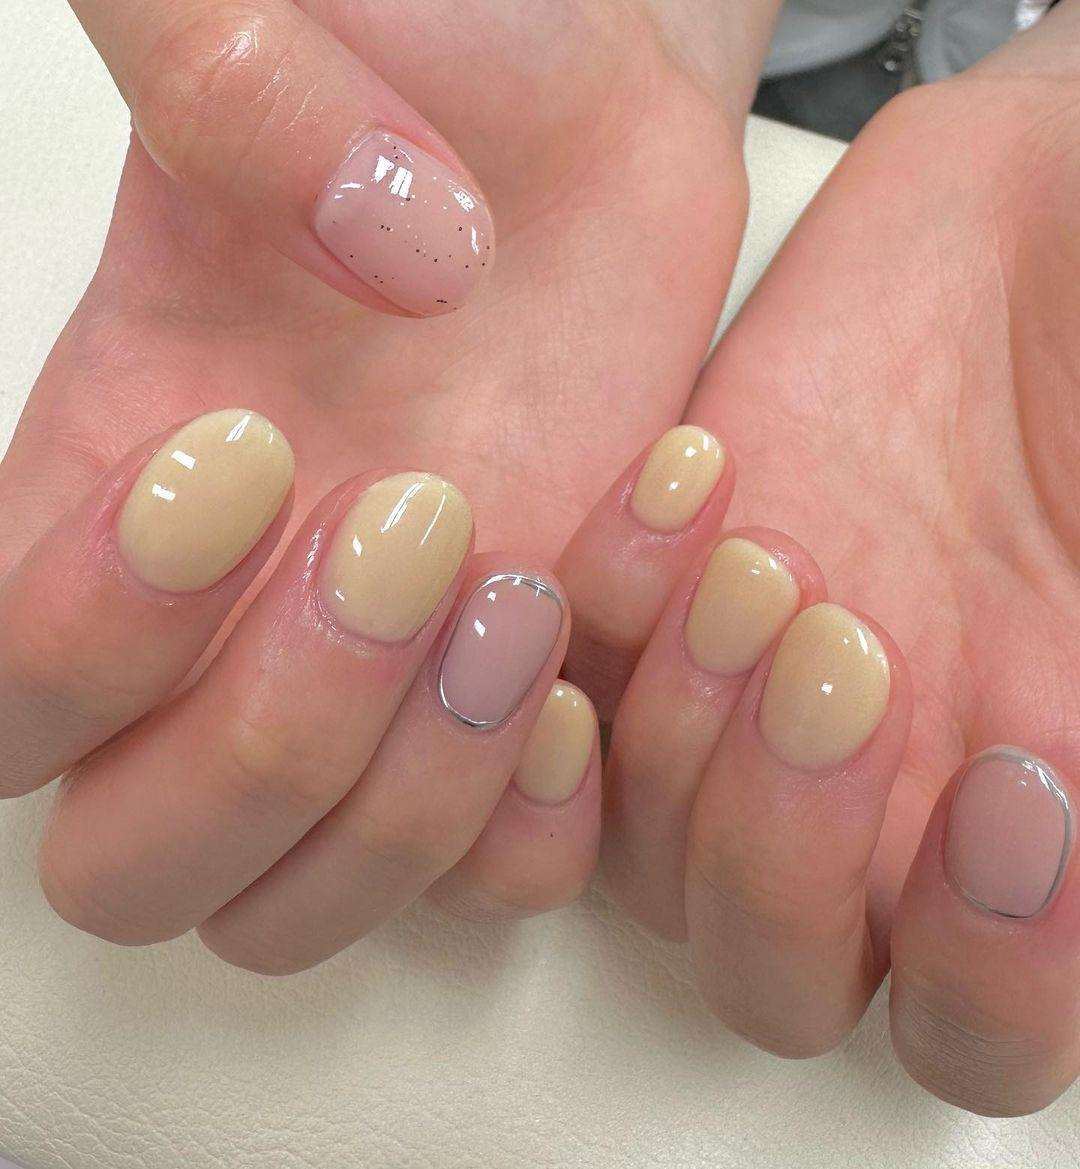nail: (310, 126, 496, 317), (113, 405, 295, 595), (310, 466, 474, 648), (754, 600, 894, 774), (940, 743, 1074, 921), (681, 524, 827, 678), (436, 567, 565, 730), (511, 678, 598, 808), (629, 422, 725, 532)
